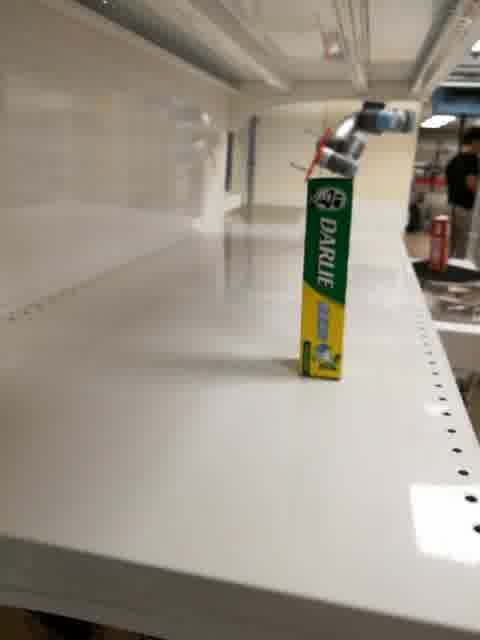toothpaste: (299, 177, 356, 383)
